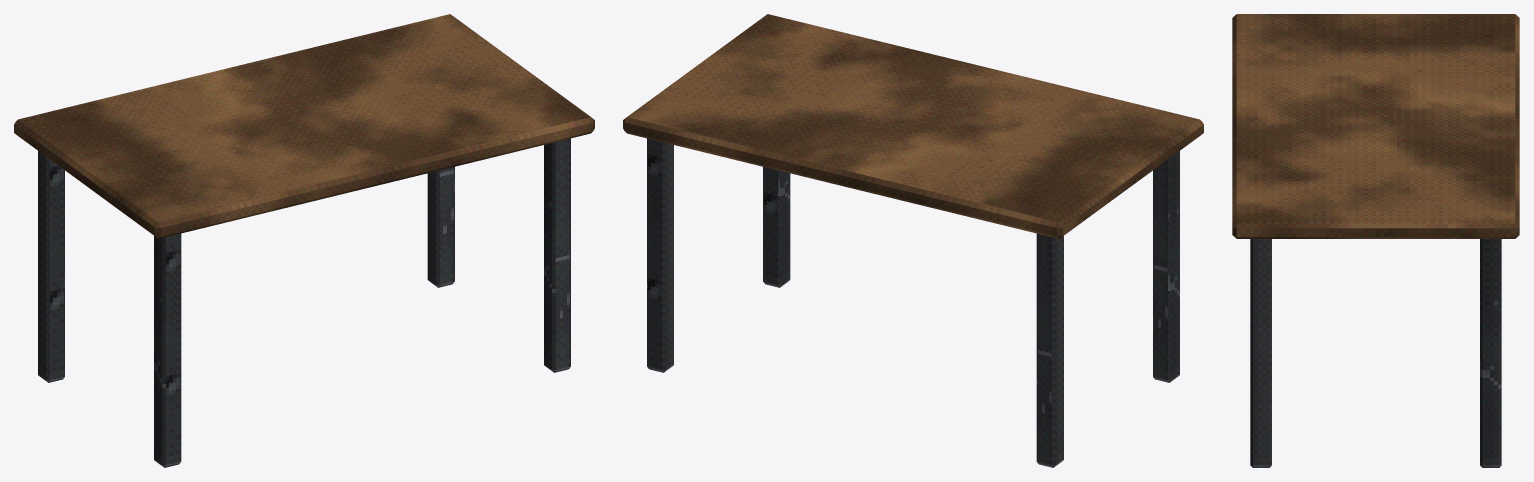
The model's file is int_table.glb.
3 renders of one model, left to right at view 1: azimuth 30°, elevation 25°; view 2: azimuth 150°, elevation 25°; view 3: azimuth 270°, elevation 25°, orthographic.
Parts seen in each view (by area): view 1: int_table_mesh; view 2: int_table_mesh; view 3: int_table_mesh.
Boxes of the visible parts, <box> form: int_table_mesh: <box>14,14,594,467</box>; int_table_mesh: <box>623,14,1203,467</box>; int_table_mesh: <box>1232,14,1519,467</box>.
Size of what is drawn, in the model's own units: 1.4 by 0.775 by 0.8.
Materials: 2 (2 with a texture image).
